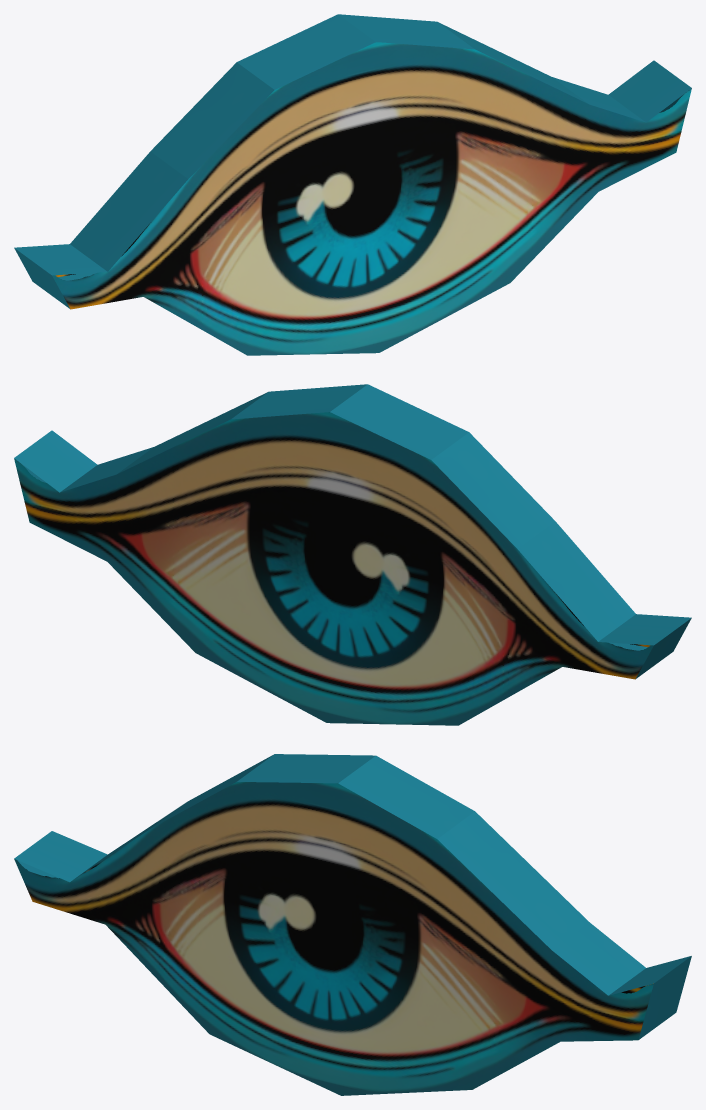
Rendered from VisibilityBuff.fbx.
3 views of the same model, one above another, from view 1: azimuth 30°, elevation 25°; view 2: azimuth 150°, elevation 25°; view 3: azimuth 330°, elevation 25° (orthographic).
Visible parts, largest first — view 1: VisibilityBuff; view 2: VisibilityBuff; view 3: VisibilityBuff.
Part boxes in pixels (x1,y1,x2,y2): VisibilityBuff: [14, 14, 691, 355]; VisibilityBuff: [14, 384, 691, 725]; VisibilityBuff: [14, 754, 691, 1095].
Size of the model in its own units: 48.58 by 22.62 by 5.
